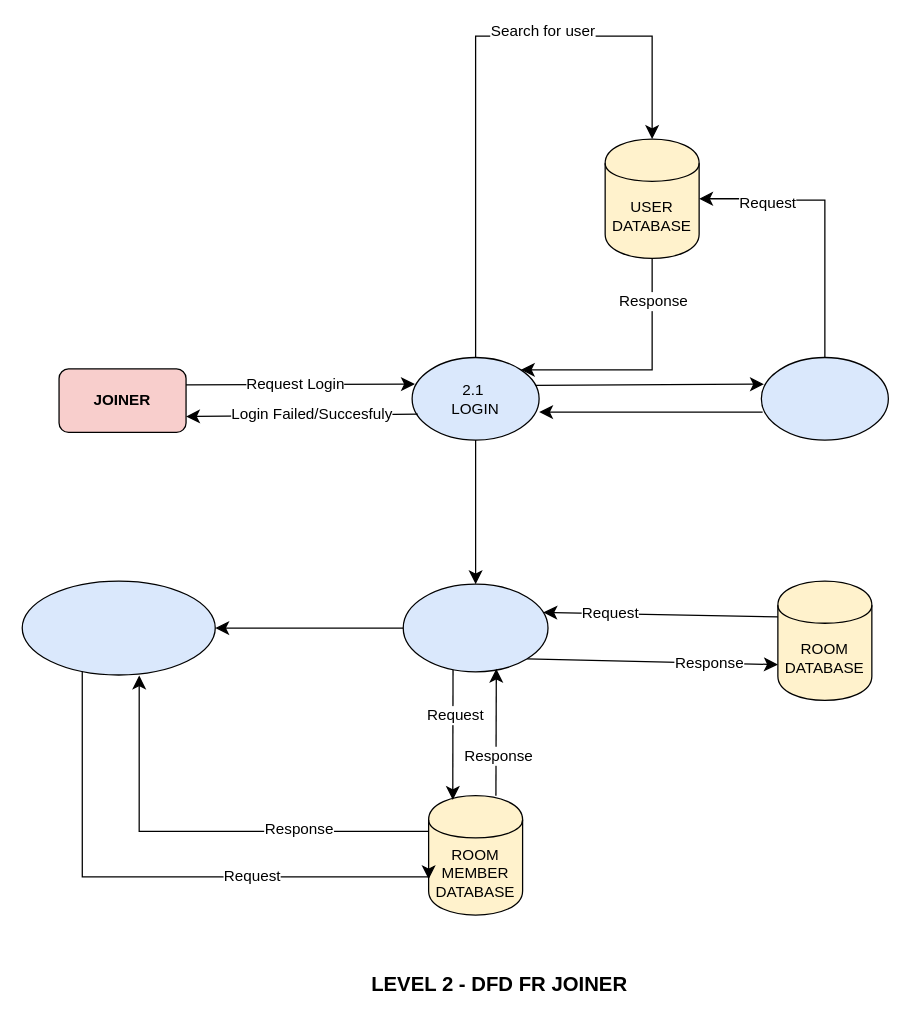
Image size: 911x1025. Some labels were removed from this diagram. The shapes that lost their labels are listed below. From the top down, each one's box as (x1, y1, x2, y2) in pixels, then its label:
(760, 356, 888, 440): 2.2 REGISTER
(21, 580, 215, 675): 2.4 VIEW ACTIVE MEMBERS
(402, 583, 548, 672): 2.3 JOIN ROOM
